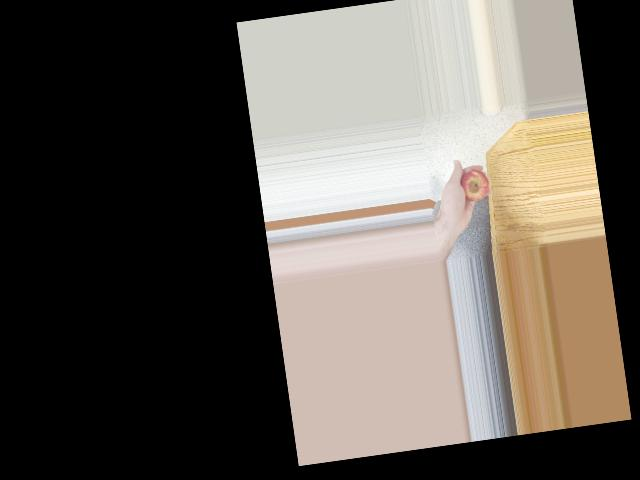apple: (456, 167, 492, 208)
